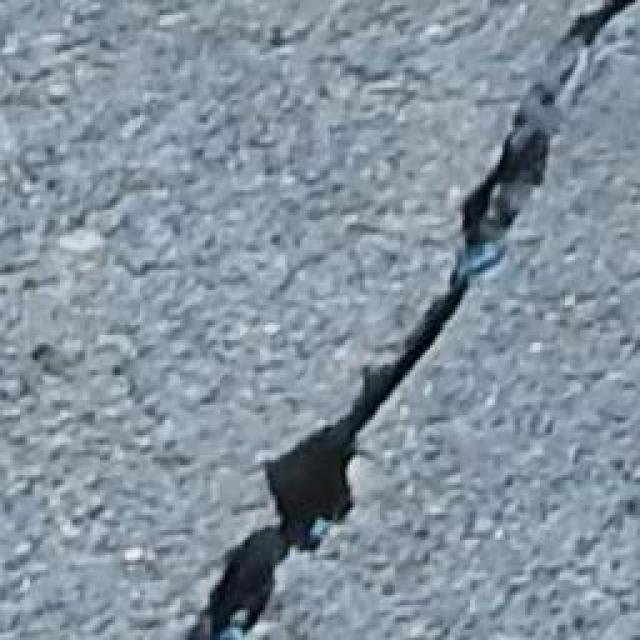concrete-crack: (188, 0, 640, 640)
